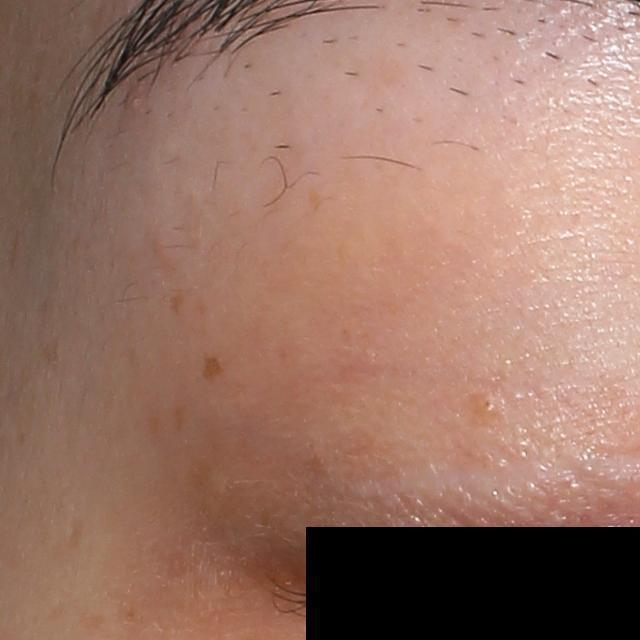comedo: (475, 397, 495, 415)
melasma: (196, 352, 226, 385), (66, 519, 87, 552), (171, 402, 189, 433), (168, 290, 186, 316)
